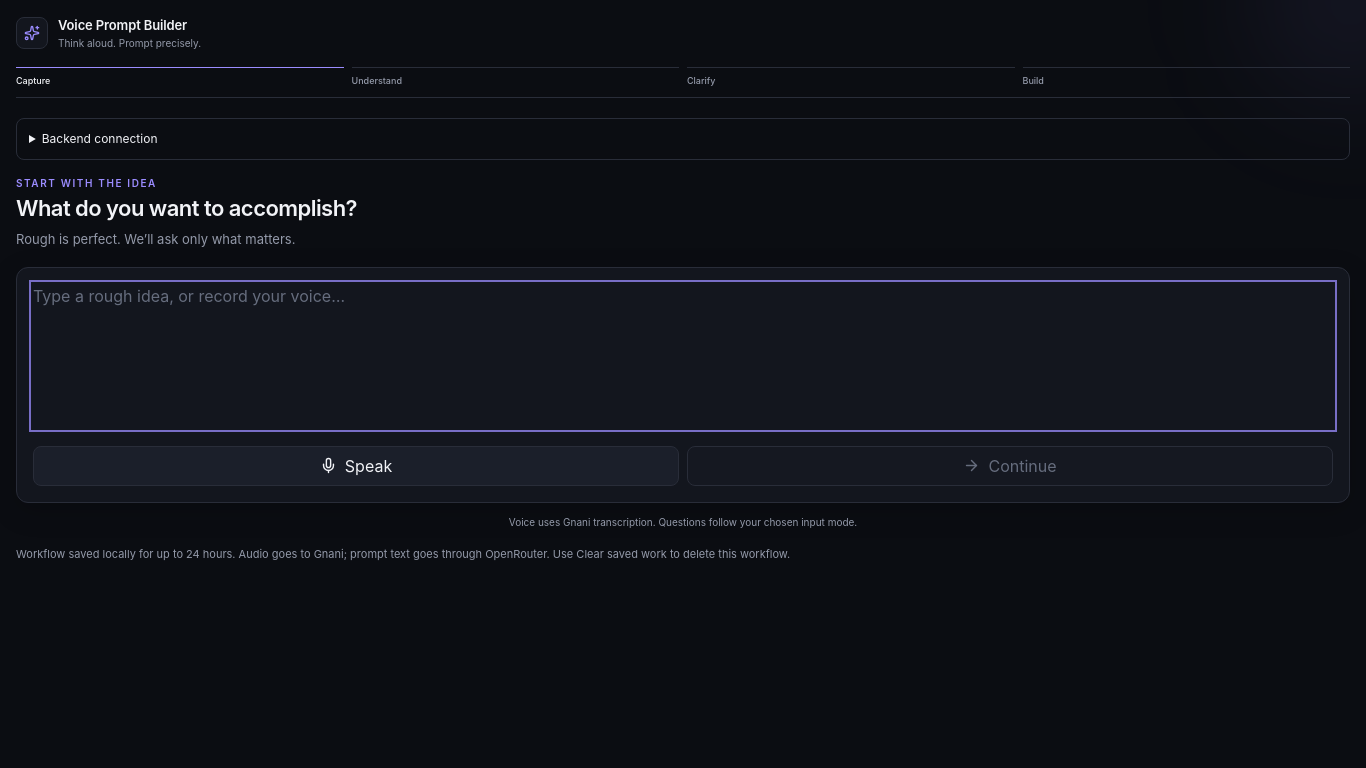
generation failure retries generation without asking for the original input again
This screenshot has width=1366, height=768.
Type "Build an event app" into the text box named "Rough prompt" at (683, 356), box x1=33 y1=284 x2=1333 y2=428
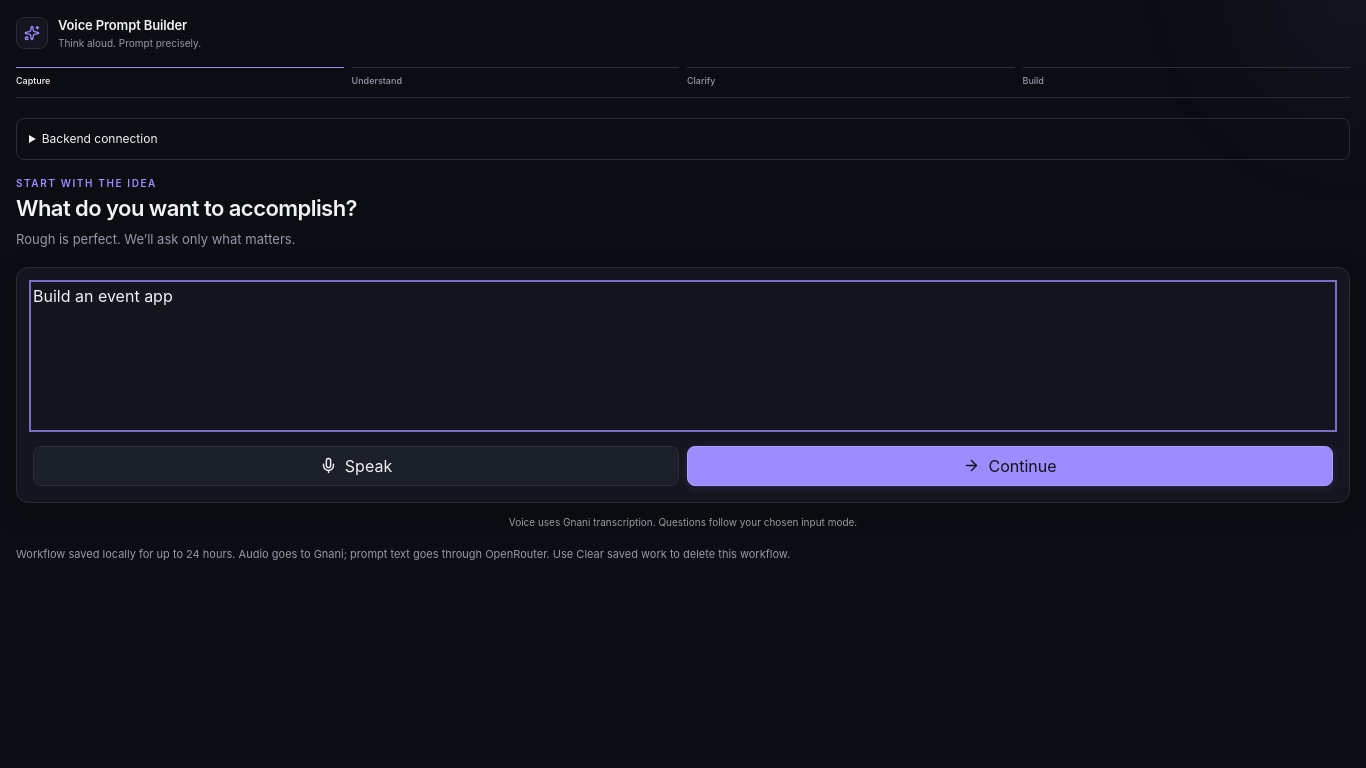
Click the button "Continue" at (1010, 466), box x1=687 y1=446 x2=1333 y2=486
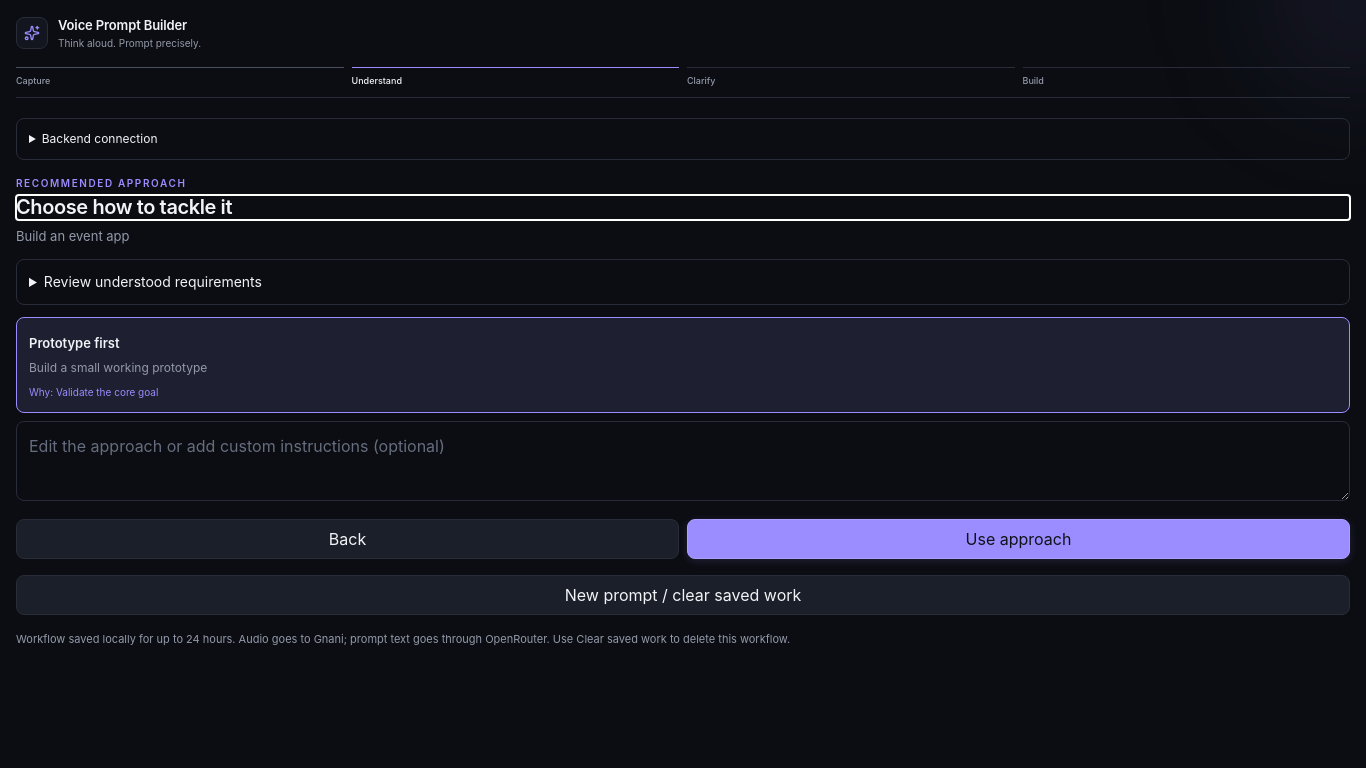
Click the button "Use approach" at (1018, 539), box x1=687 y1=519 x2=1350 y2=559
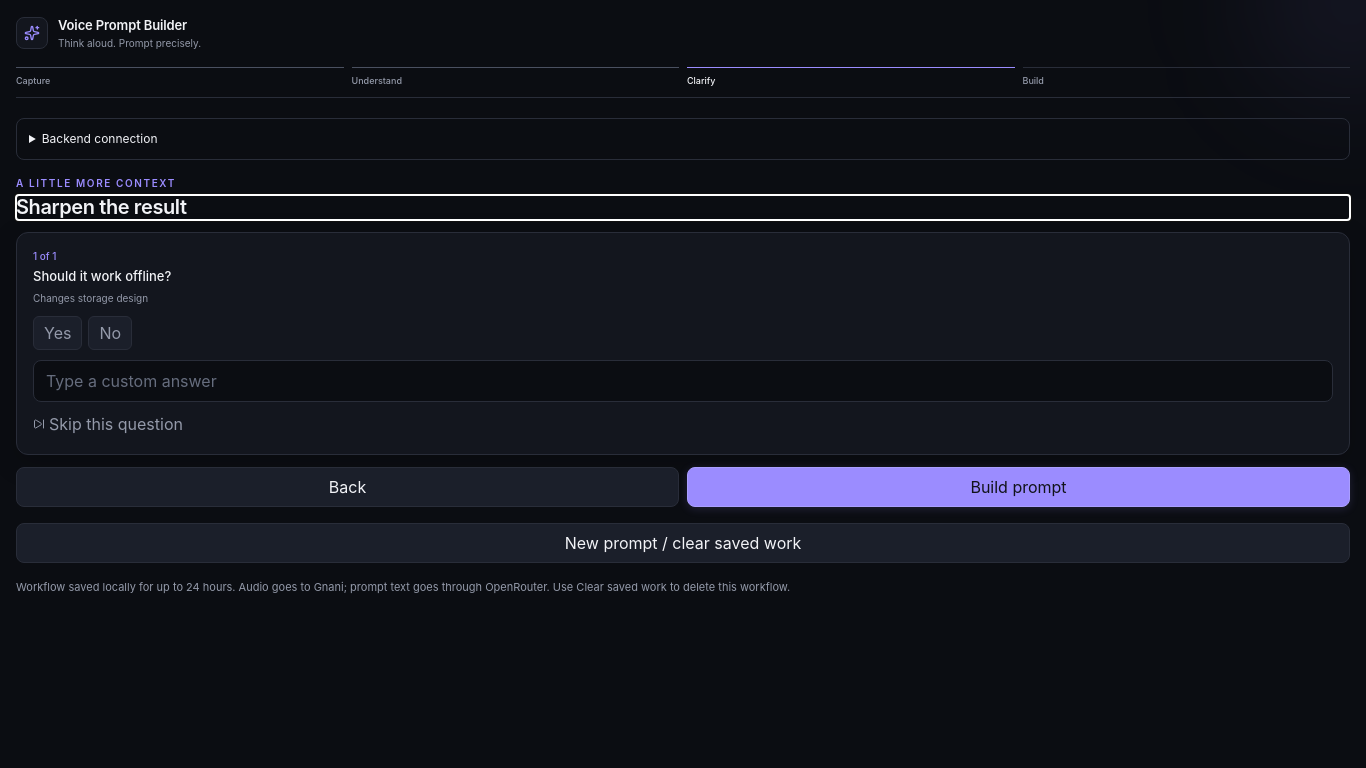
Click the button "Build prompt" at (1018, 487), box x1=687 y1=467 x2=1350 y2=507
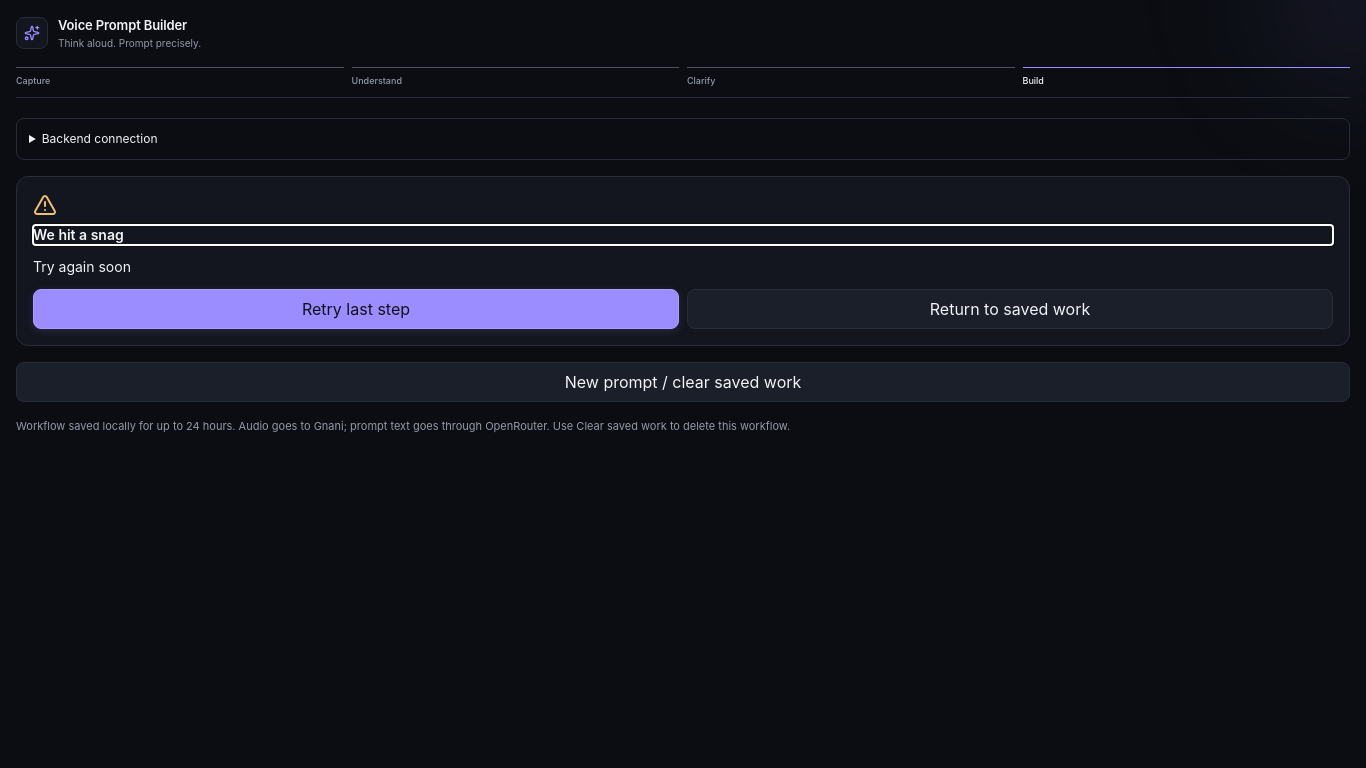
Check: the message reads "Try again soon", box x1=33 y1=258 x2=131 y2=275
Click the button "Retry last step" at (356, 309), box x1=33 y1=289 x2=679 y2=329
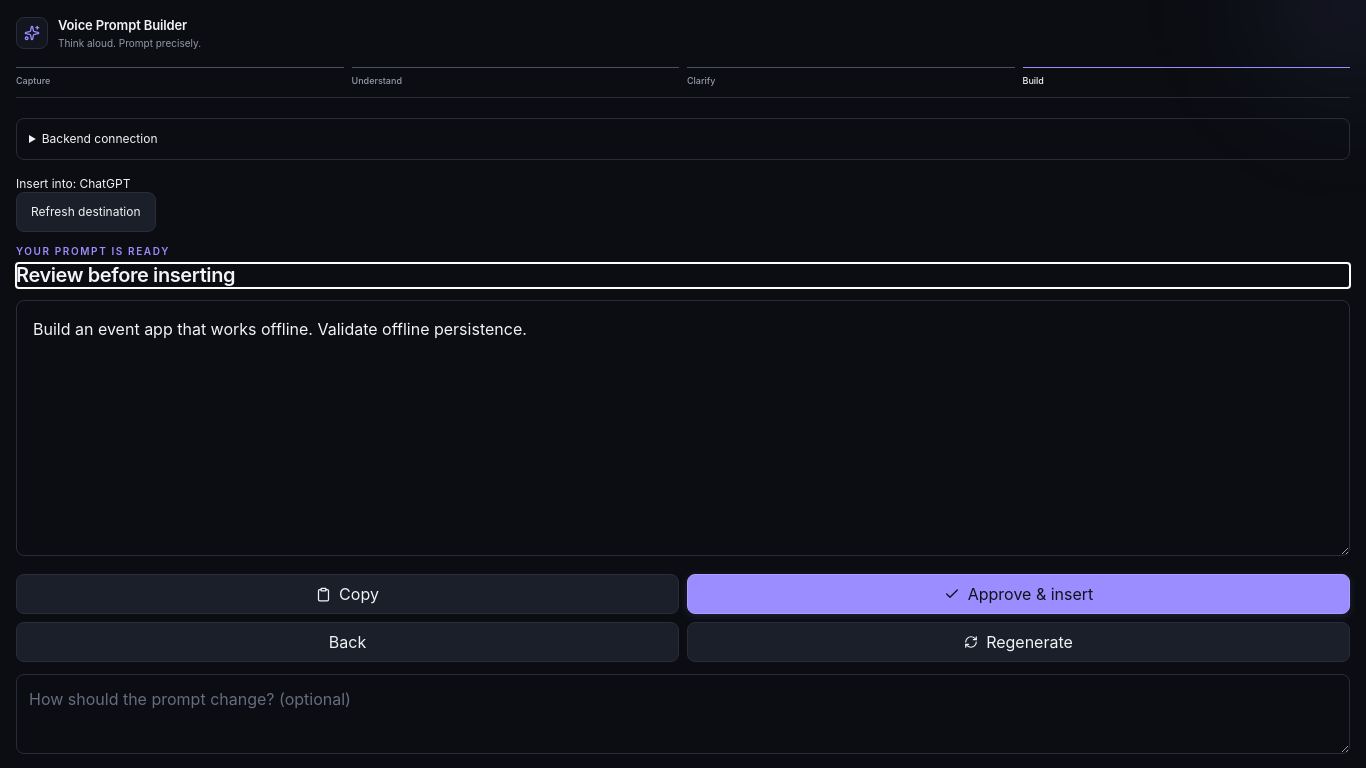
Check: the text box named "Final prompt" is shown, box x1=16 y1=300 x2=1350 y2=556
